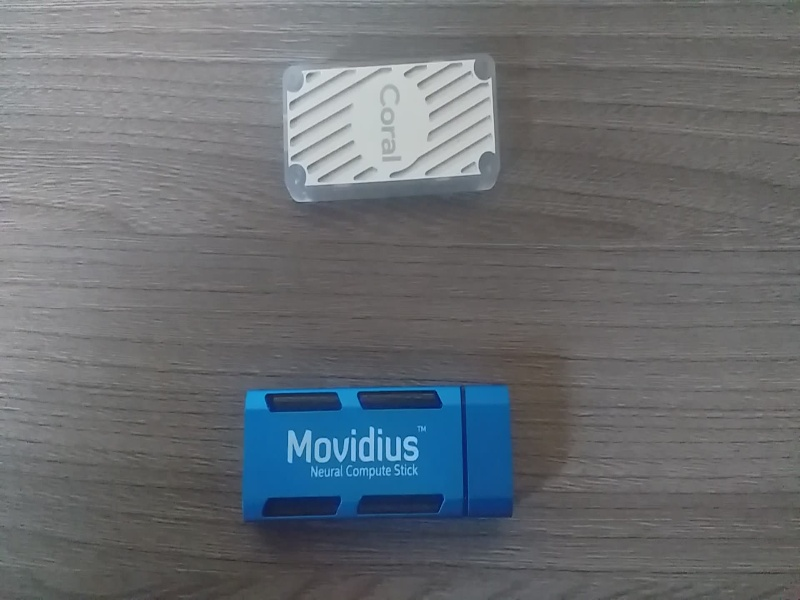coral: (278, 52, 510, 213)
movidius: (233, 375, 529, 544)
